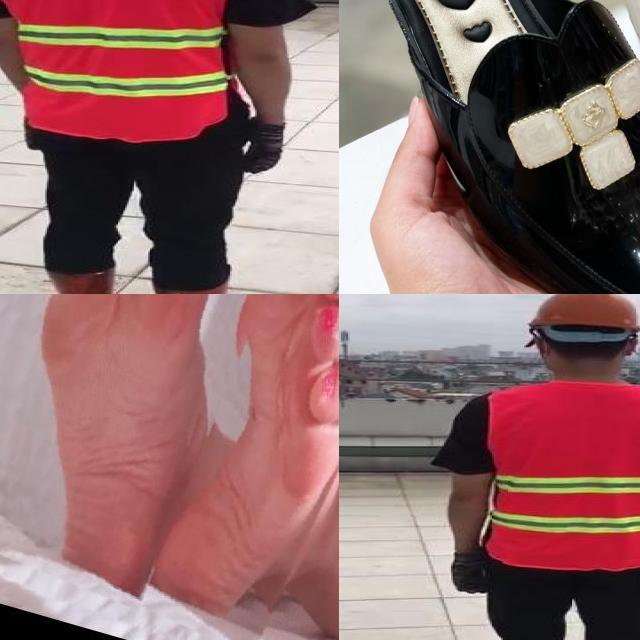Barefoots: (31, 294, 217, 607), (160, 294, 339, 618)
Sandals: (339, 0, 640, 294), (564, 0, 640, 243)
boots: (43, 266, 125, 294)
hand_glove: (240, 120, 282, 176), (451, 552, 485, 595)
head_helmet: (522, 294, 640, 332)
person: (0, 0, 331, 294), (432, 294, 640, 640)
vest: (0, 0, 237, 142), (485, 382, 640, 568)
